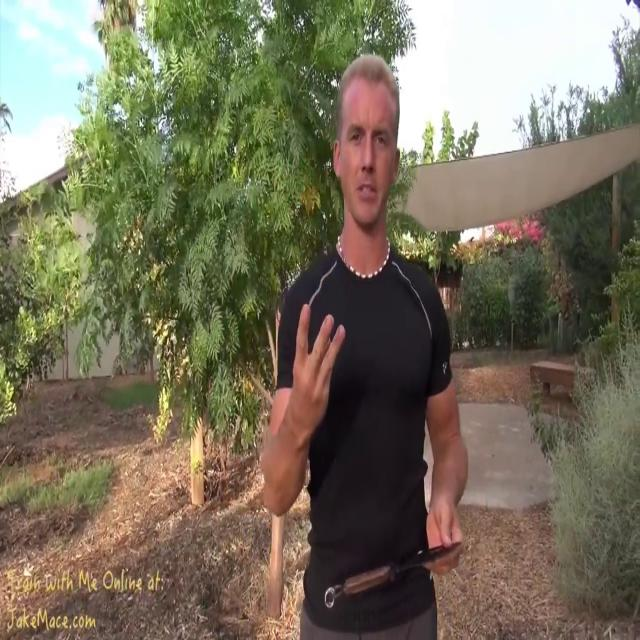knife: (311, 538, 467, 624)
